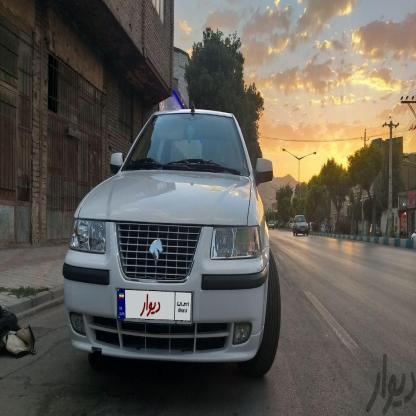Car: (67, 107, 280, 380), (294, 214, 309, 237), (266, 214, 276, 233)
